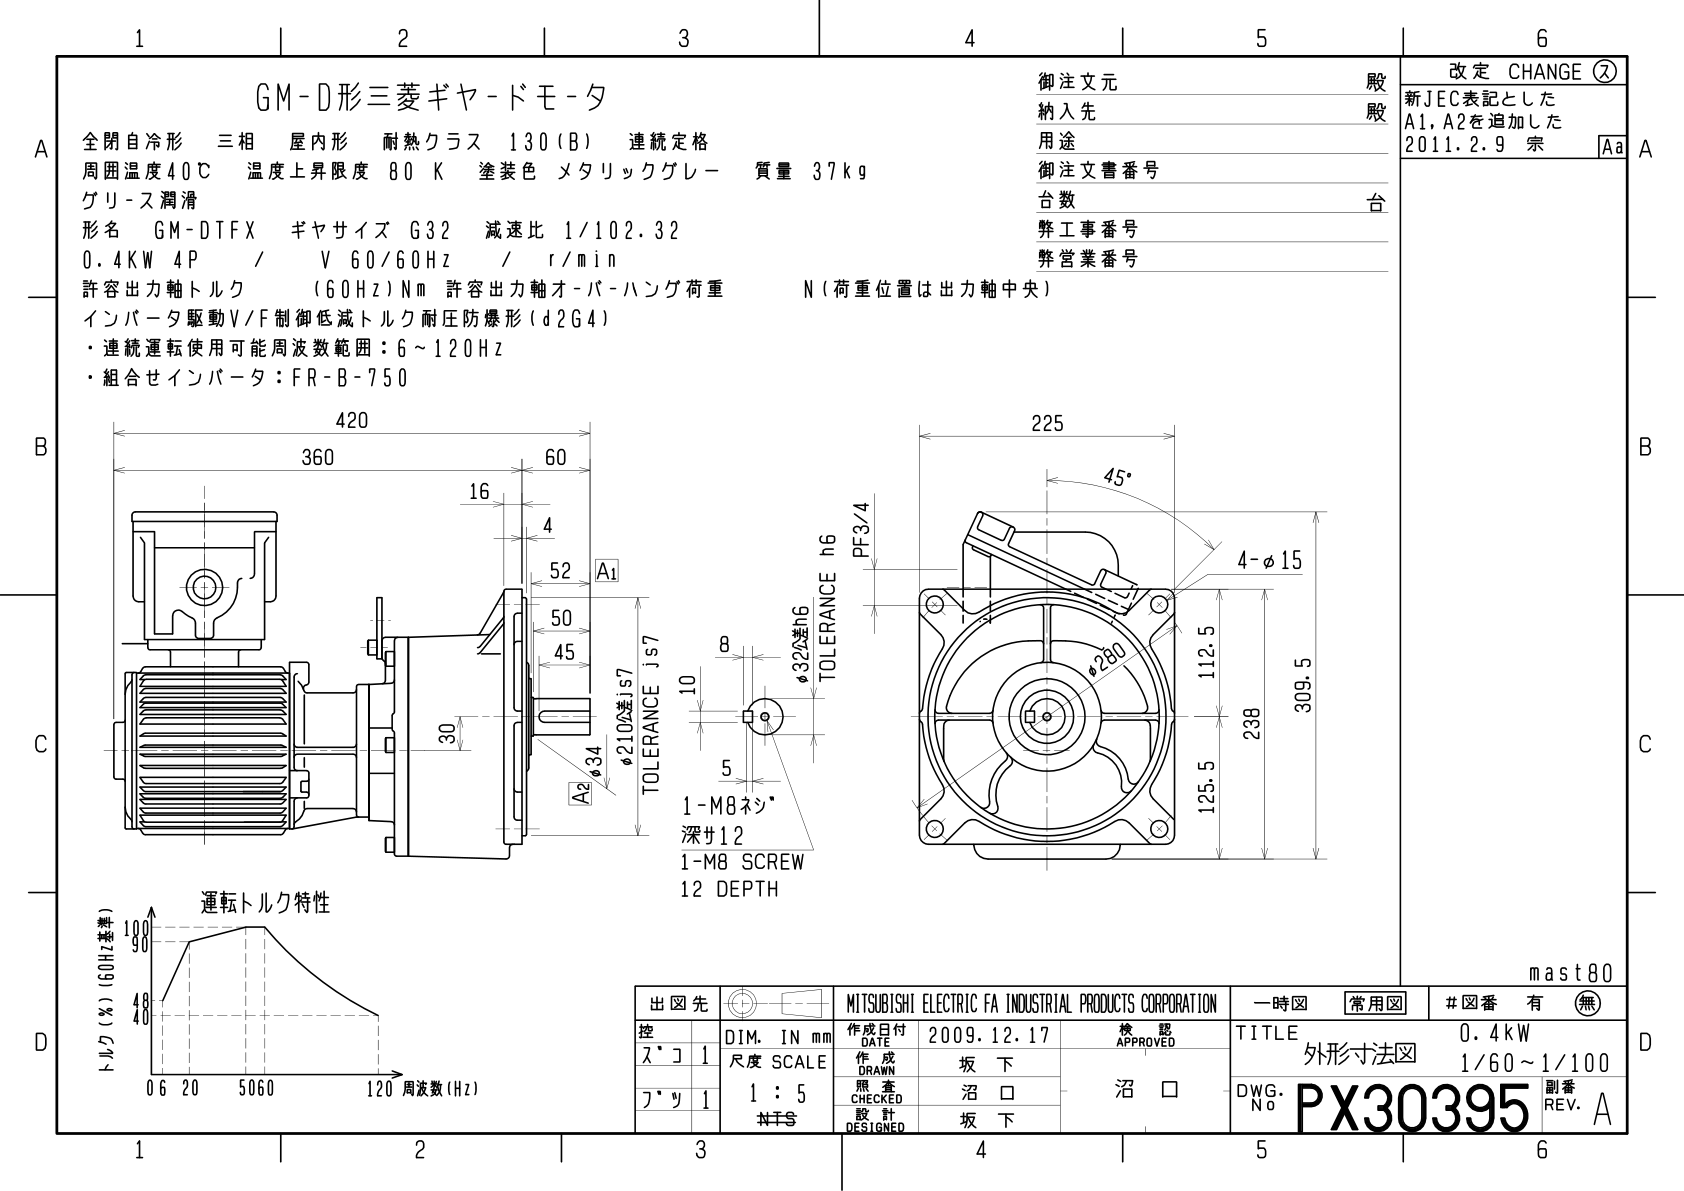GM_D_VF制御屋内_三相_フランジ: (77, 396, 1370, 959)
